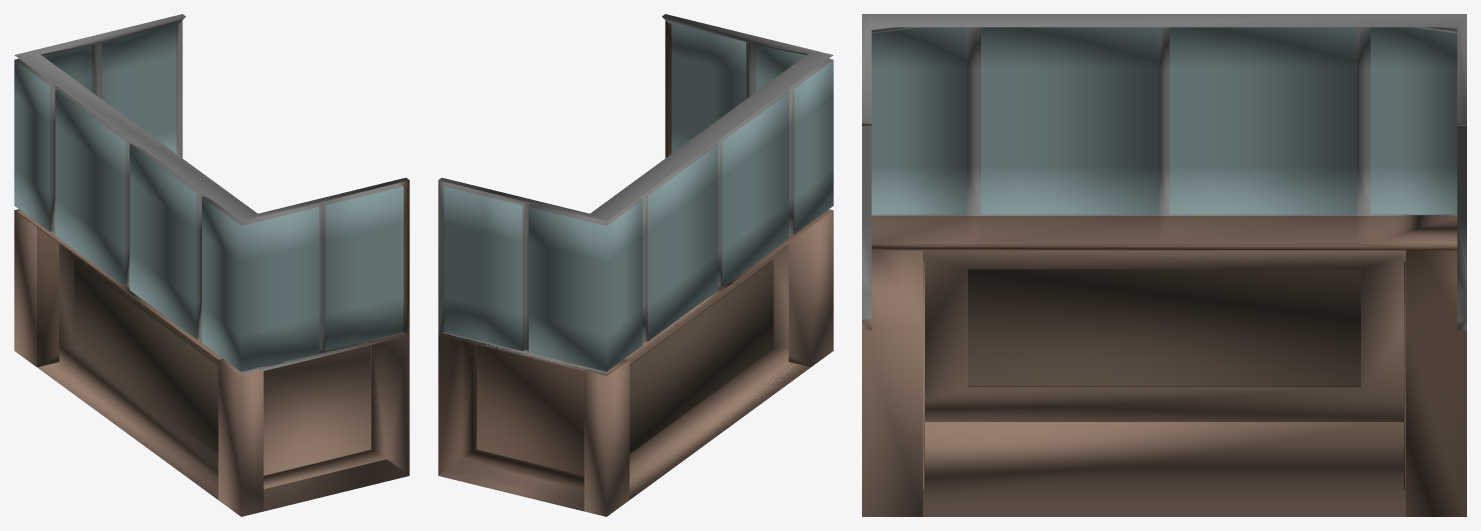
The model's file is Balcoon.fbx.
The picture shows the model from 3 angles, left to right: view 1: azimuth 30°, elevation 25°; view 2: azimuth 150°, elevation 25°; view 3: azimuth 270°, elevation 25°; orthographic projection. The views are drawn at different scales.
Visible parts, largest first — view 1: Cube.015; view 2: Cube.015; view 3: Cube.015.
Part boxes in pixels (x1,y1,x2,y2): Cube.015: [14, 14, 409, 516]; Cube.015: [438, 14, 833, 516]; Cube.015: [862, 14, 1466, 516].
Bounding box in the file's own units: 83.89 × 35.93 × 60.24.
